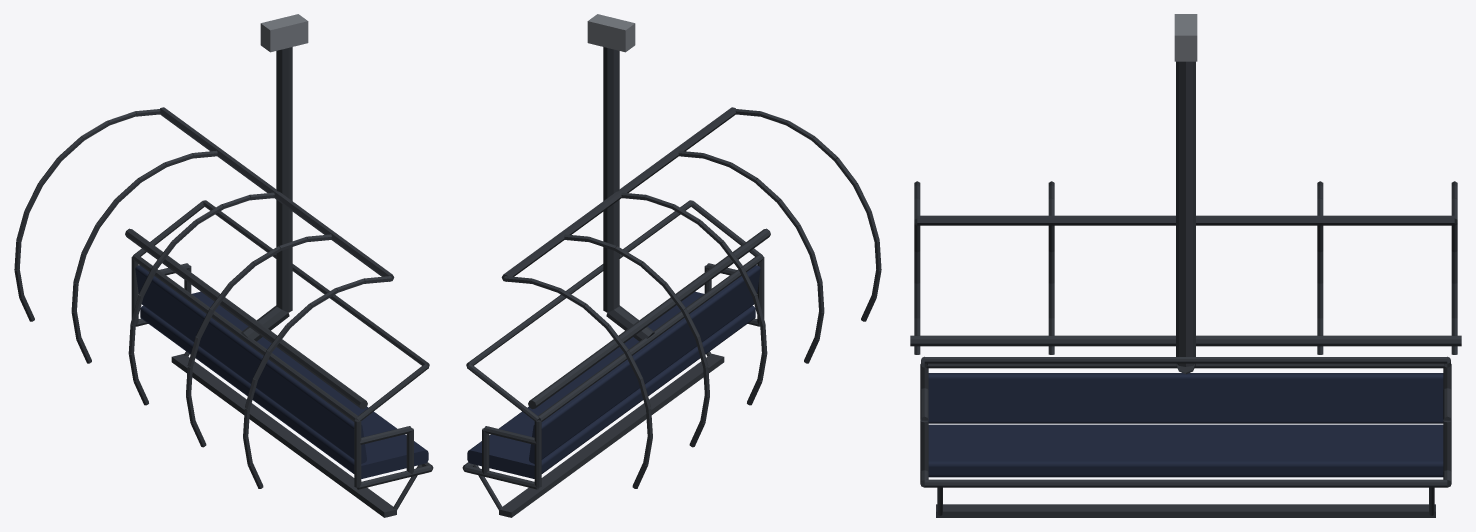
File: chair_6pack_bubble_up.obj
The picture shows the model from 3 angles, left to right: view 1: azimuth 30°, elevation 25°; view 2: azimuth 150°, elevation 25°; view 3: azimuth 270°, elevation 25°; orthographic projection. The views are drawn at different scales.
Bounding box in the file's own units: 1.84 × 3.78 × 3.86.
